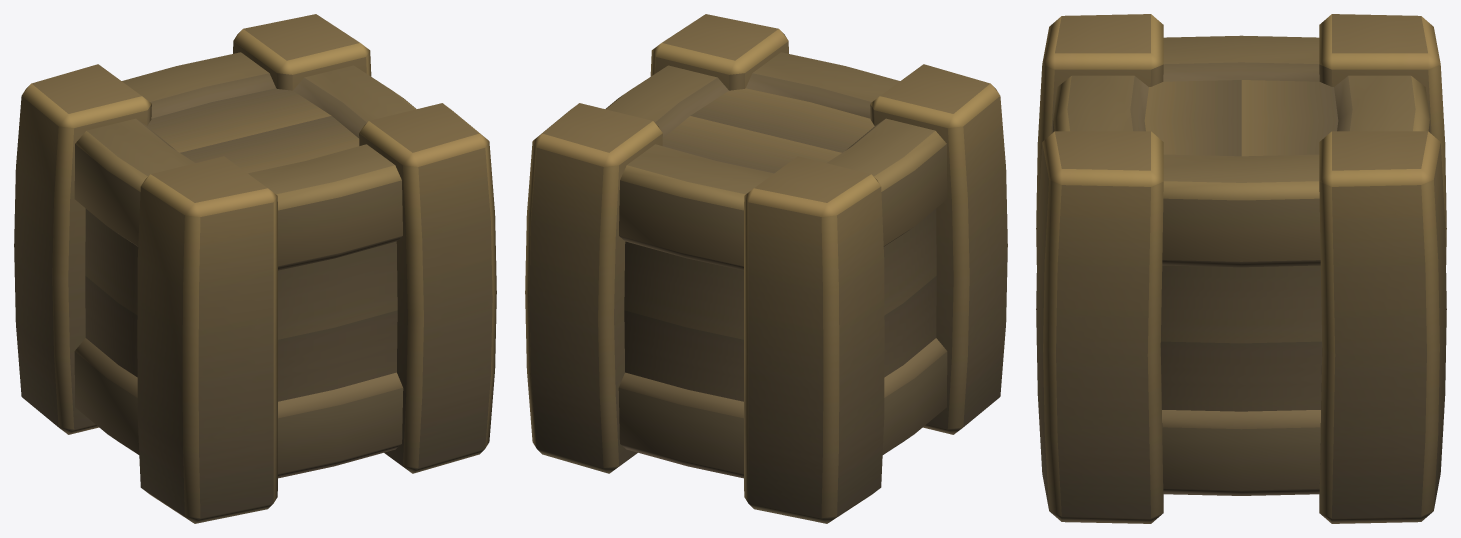
The model's file is box_wooden_4.fbx.
The picture shows the model from 3 angles, left to right: view 1: azimuth 30°, elevation 25°; view 2: azimuth 150°, elevation 25°; view 3: azimuth 270°, elevation 25°; orthographic projection. The views are drawn at different scales.
Parts seen in each view (by area): view 1: box_wooden_4; view 2: box_wooden_4; view 3: box_wooden_4.
Part boxes in pixels (<box>): box_wooden_4: <box>14,14,496,523</box>; box_wooden_4: <box>525,14,1007,523</box>; box_wooden_4: <box>1036,14,1446,523</box>.
Bounding box in the file's own units: 106 × 101 × 106.
